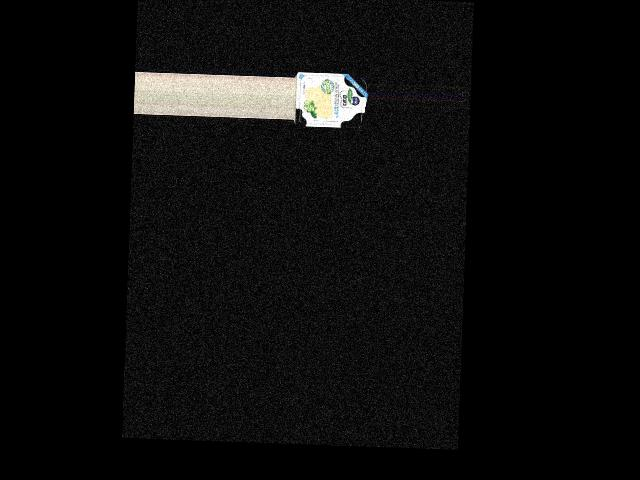cheese: (292, 68, 367, 131)
